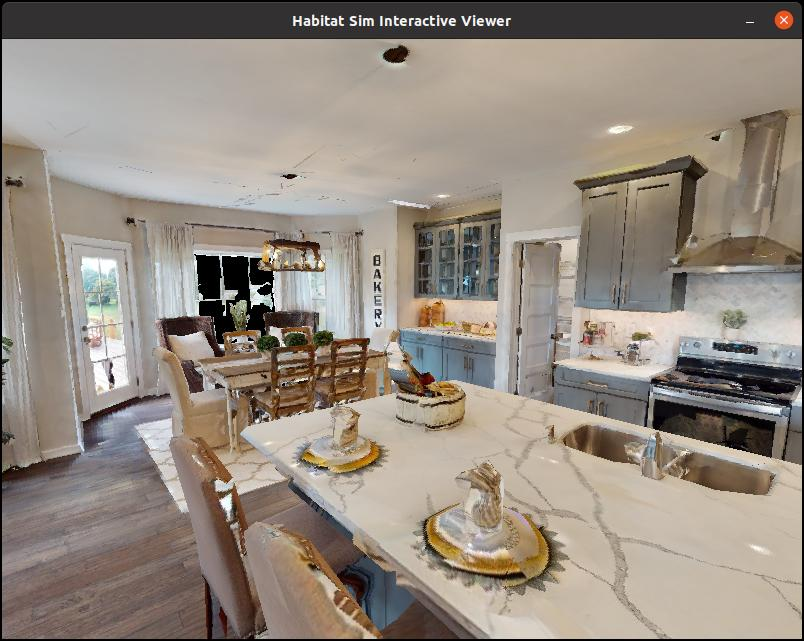chair: (153, 420, 366, 641), (148, 340, 252, 452), (240, 337, 325, 443), (310, 334, 384, 415)
door: (518, 241, 561, 396)
door-frame: (513, 241, 581, 405)
sink: (549, 398, 782, 521)
table: (206, 358, 804, 641), (188, 335, 396, 435)
